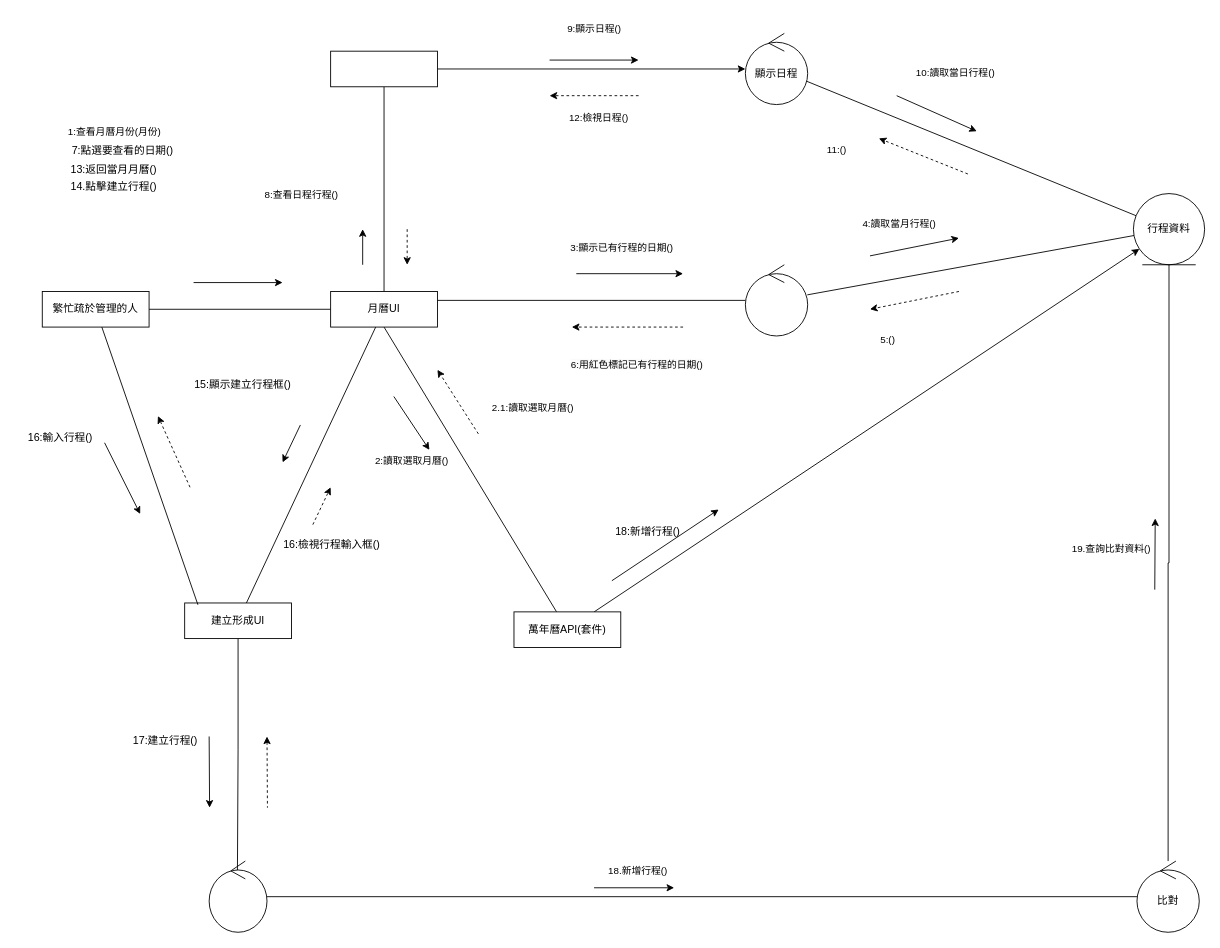
This 1220x948 diagram has some shape labels left out. The shapes that lost their labels are listed below. From the top down, each one's centre as x and y in pixels, then its label:
At (x=383, y=68): "日程UI".
At (x=776, y=300): "顯示月曆".
At (x=237, y=896): "建立".
